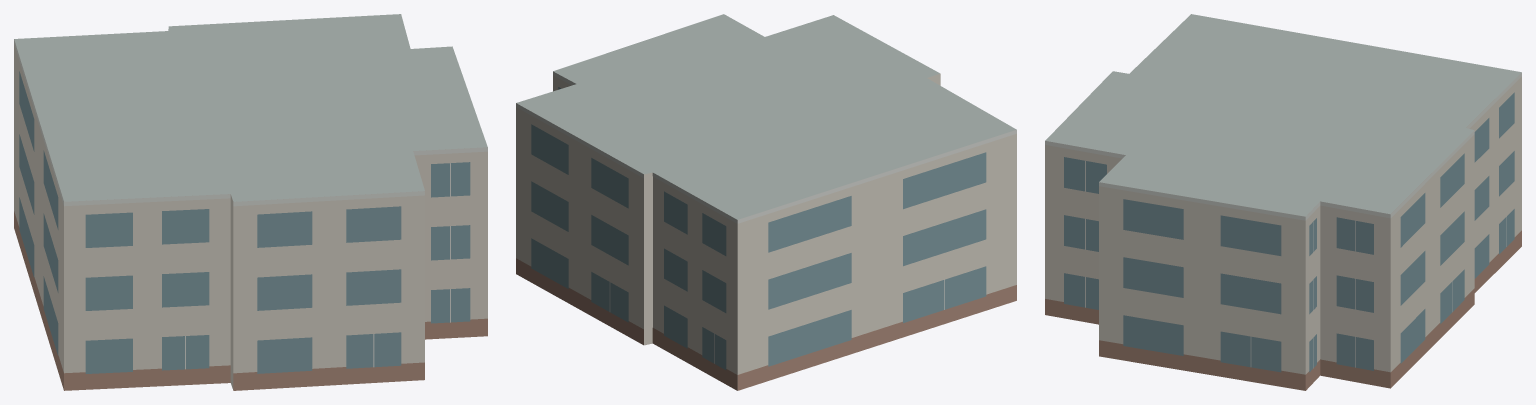
File: survey-upis-32492123.glb
The picture shows the model from 3 angles, left to right: view 1: azimuth 30°, elevation 25°; view 2: azimuth 150°, elevation 25°; view 3: azimuth 270°, elevation 25°; orthographic projection. The views are drawn at different scales.
Visible parts, largest first — view 1: survey-upis-32492123.tmp; view 2: survey-upis-32492123.tmp; view 3: survey-upis-32492123.tmp.
Boxes of the visible parts, x1,y1,x2,y2 form: survey-upis-32492123.tmp: [14, 14, 487, 390]; survey-upis-32492123.tmp: [516, 14, 1016, 390]; survey-upis-32492123.tmp: [1045, 14, 1521, 390].
Bounding box in the file's own units: 26.21 × 10.5 × 26.05.
